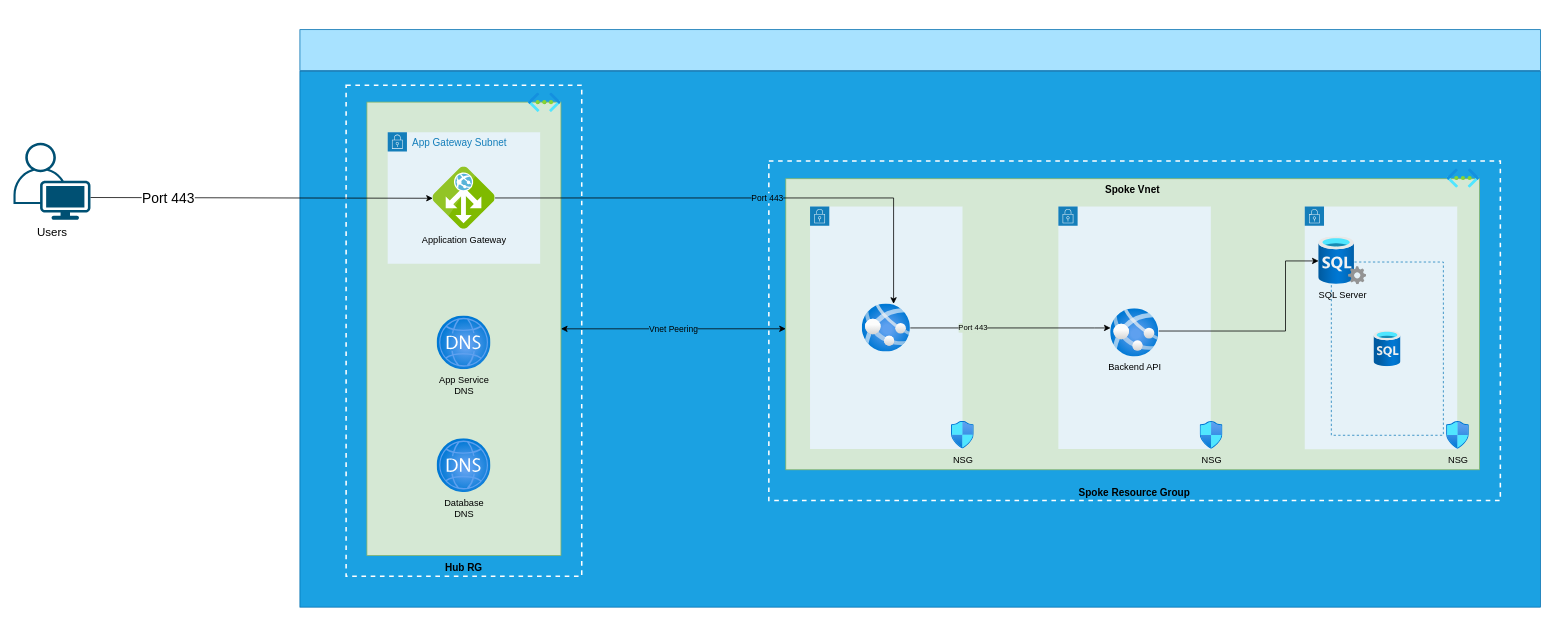
Some shapes in this 1554 by 621 pixel diagram are drawn without their labels. Each missing label, with the box of its shape:
Application: (1374, 330, 1400, 366)
Azure Resources: (299, 29, 1540, 71)
Backend Subnet: (1058, 206, 1211, 449)
Database Subnet: (1304, 206, 1457, 449)
Frontend App: (862, 303, 910, 352)
Frontend Subnet: (809, 206, 962, 449)
Hub Virtual Network: (366, 101, 561, 556)
